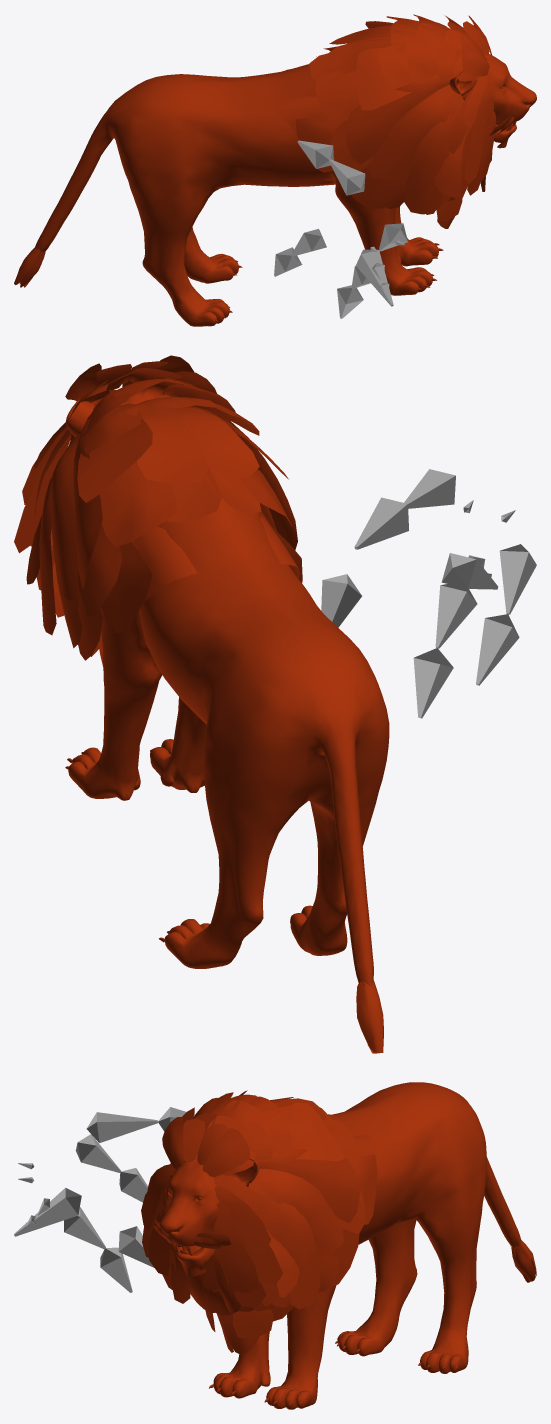
3 views of the same model, one above another, from view 1: azimuth 30°, elevation 25°; view 2: azimuth 150°, elevation 25°; view 3: azimuth 270°, elevation 25° (orthographic). The views are drawn at different scales.
Parts seen in each view (by area): view 1: lion, Bone01, Bone06, Bone07, Bone04, Bone09, Bone10(mirrored), Bone10; view 2: lion, Bone10, Bone04, Bone07, Bone03, Bone09, Bone10(mirrored), Bone06, Bone01; view 3: lion, Bone06, Bone01, Bone09, Bone04, Bone03, Bone10(mirrored), Bone10.
Boxes of the visible parts, <box> form: lion: <box>14,14,536,326</box>; Bone01: <box>355,249,393,306</box>; Bone06: <box>329,159,365,195</box>; Bone07: <box>297,140,333,168</box>; Bone04: <box>337,285,363,318</box>; Bone09: <box>291,228,326,256</box>; Bone10(mirrored): <box>379,223,407,251</box>; Bone10: <box>274,247,302,276</box>; lion: <box>14,355,389,1053</box>; Bone10: <box>476,614,519,685</box>; Bone04: <box>413,648,453,718</box>; Bone07: <box>354,497,408,549</box>; Bone03: <box>435,584,477,648</box>; Bone09: <box>499,544,536,614</box>; Bone10(mirrored): <box>321,574,361,627</box>; Bone06: <box>404,469,455,508</box>; Bone01: <box>441,553,498,589</box>; lion: <box>141,1082,536,1409</box>; Bone06: <box>86,1112,157,1142</box>; Bone01: <box>14,1187,81,1236</box>; Bone09: <box>75,1134,121,1172</box>; Bone04: <box>100,1247,132,1292</box>; Bone03: <box>64,1207,105,1249</box>; Bone10(mirrored): <box>118,1226,154,1267</box>; Bone10: <box>119,1168,147,1202</box>.
Bounding box in the file's own units: 203 × 161 × 222.
